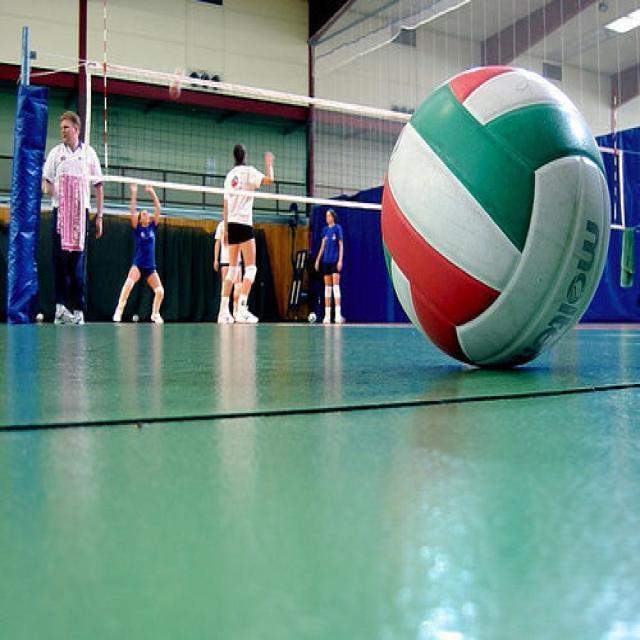volleyball: (380, 64, 612, 370)
